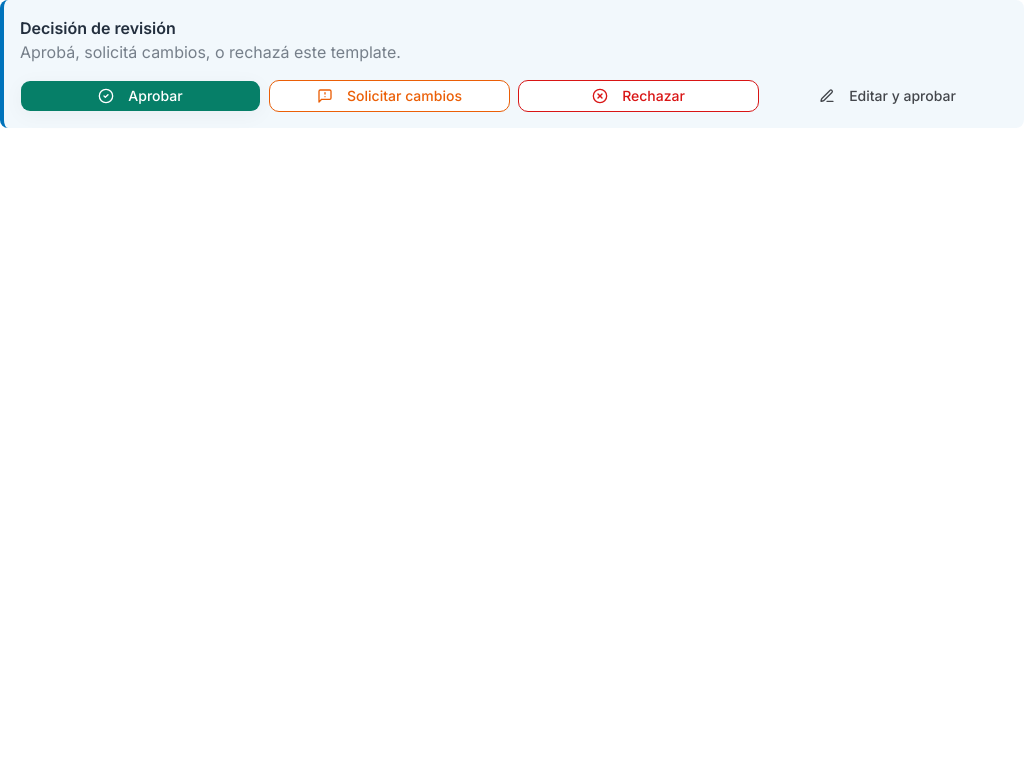
Test: ReviewDecisionPanel › abre dialog de Rechazar con comment required (asterisco)
The image size is (1024, 768).
Click the button "Rechazar" at coordinates (638, 96), box x1=518 y1=80 x2=759 y2=112
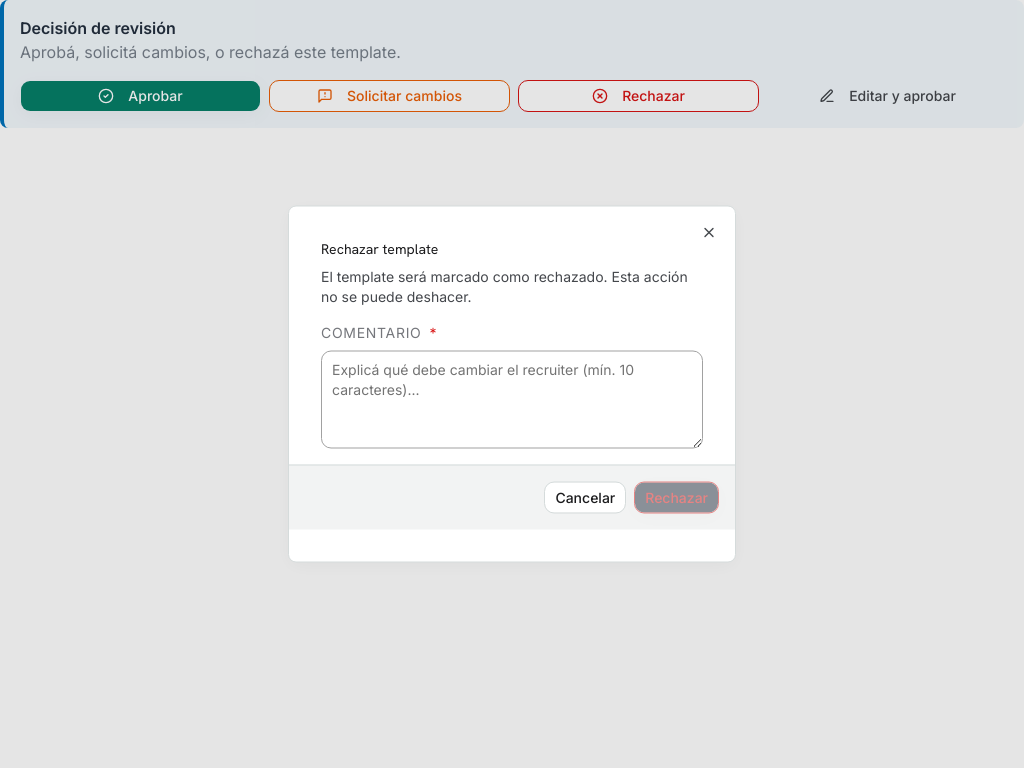
Expected: the dialog shows "*", x1=288 y1=206 x2=736 y2=562
